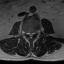CCS_normal: (30, 30, 31, 40)
LFS_normal: (33, 29, 36, 35)
LLS_stenosis: (31, 30, 33, 38)
RFS_normal: (25, 30, 27, 36)
RLS_normal: (27, 30, 30, 38)
